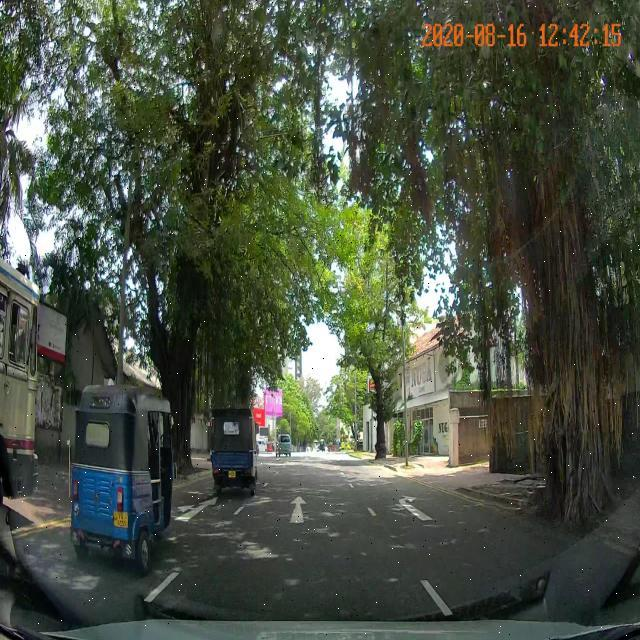forward: (219, 492, 386, 531)
